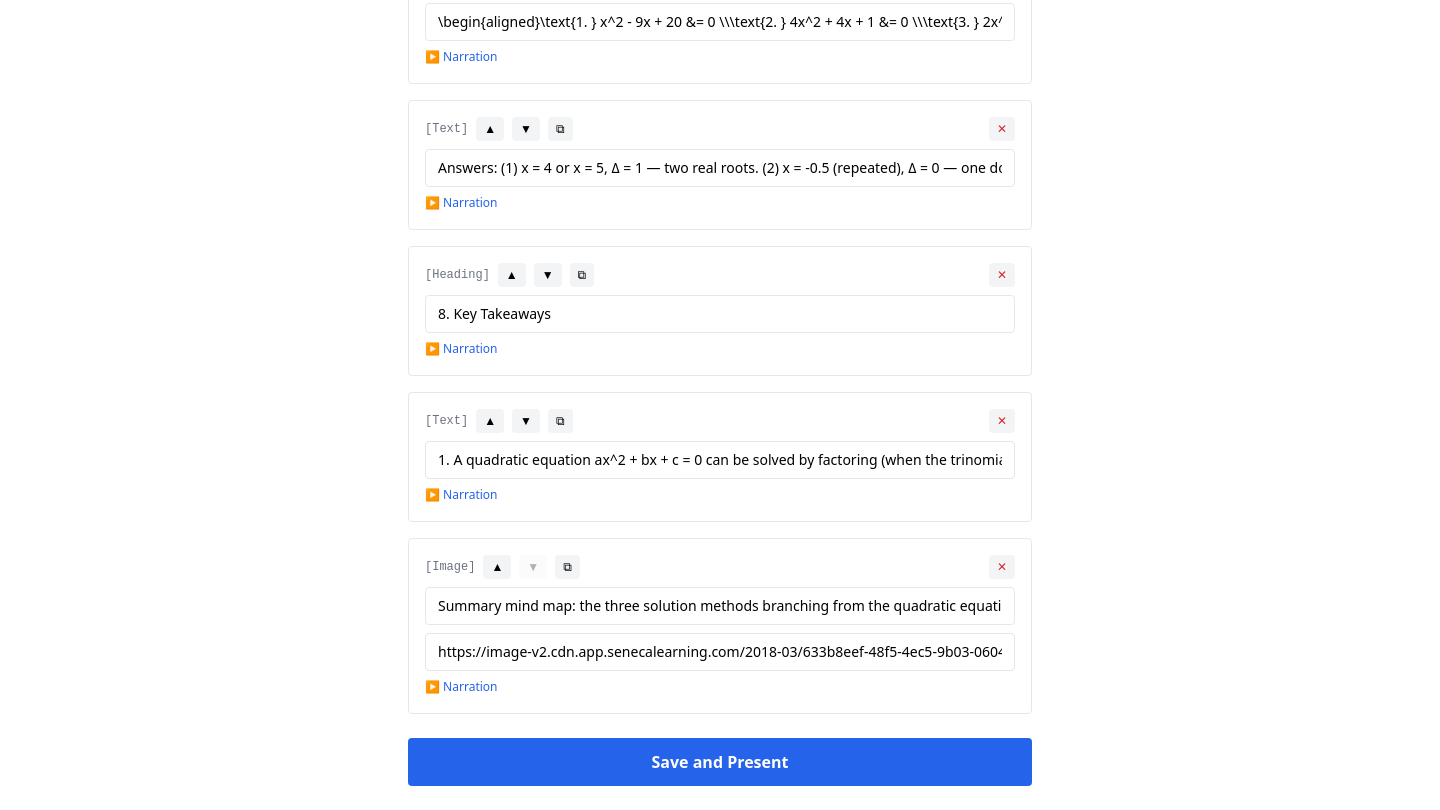
Scenario: App › single-lesson flow (backward compat) › returns to LessonPlanner on exit
(page scrolled)
Click the button "Save and Present".
click(720, 762)  # box 408,738 -> 1032,786
(page scrolled)
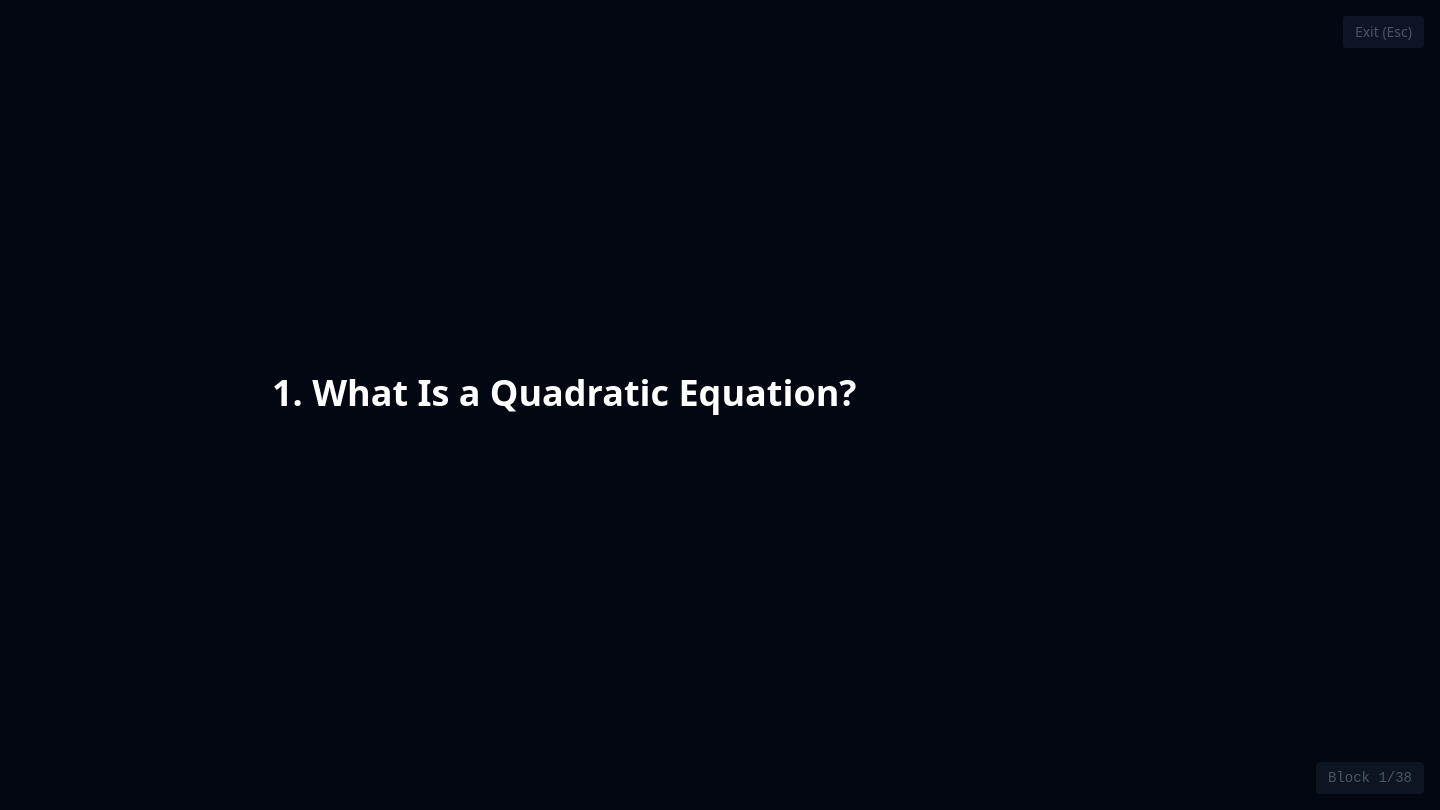
Result: the heading "1. What Is a Quadratic Equation?" is shown at 272,368 -> 856,417
Press Escape
(page scrolled)
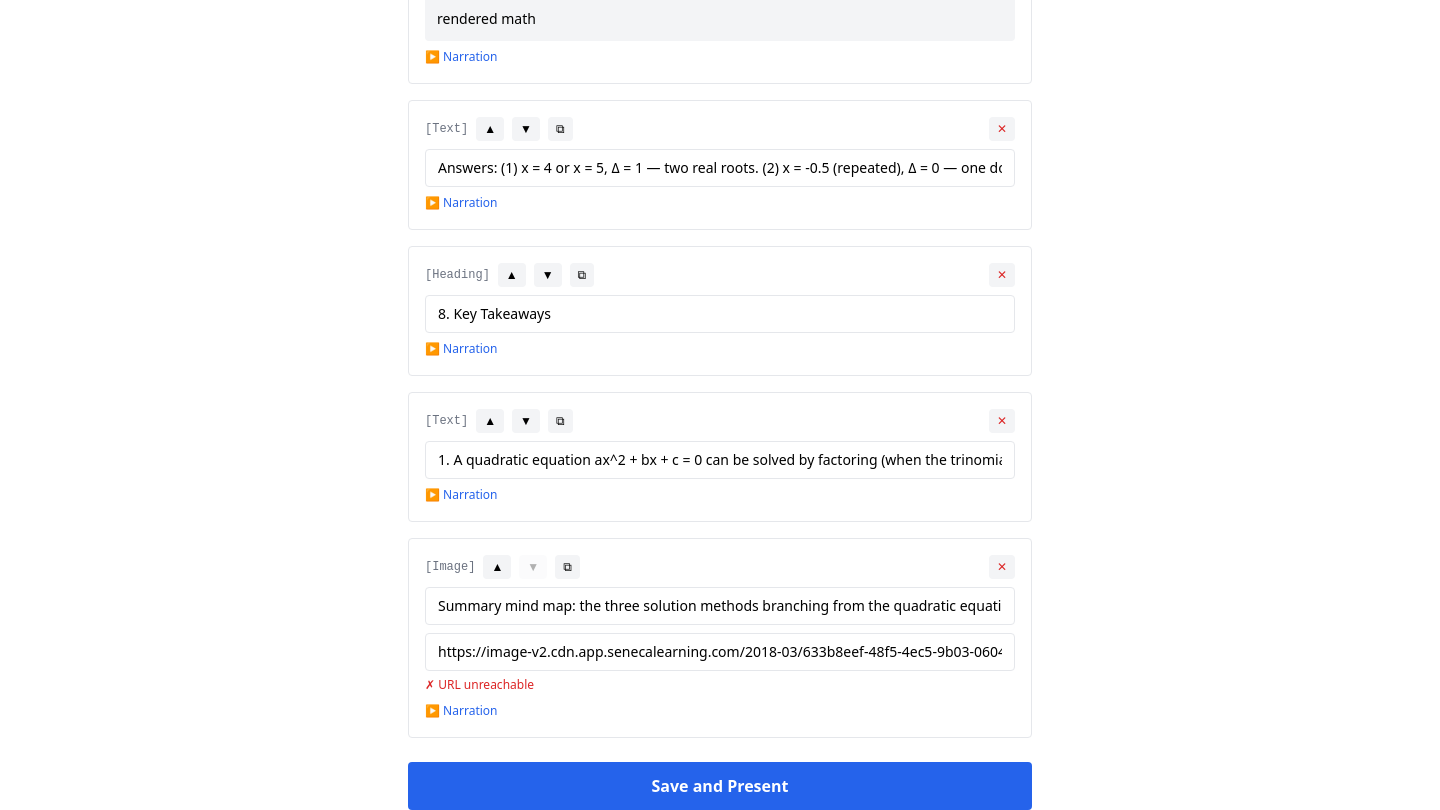
Result: the button "Save and Present" is shown at 408,762 -> 1032,809
